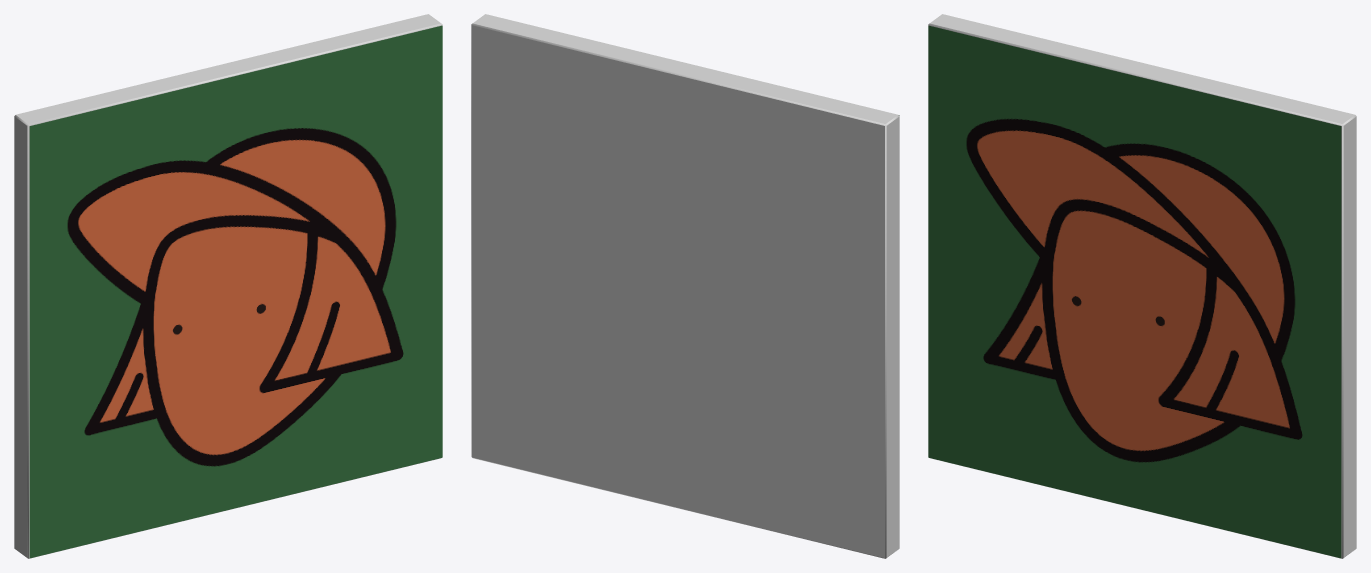
The model's file is room09.glb.
3 renders of one model, left to right at view 1: azimuth 30°, elevation 25°; view 2: azimuth 150°, elevation 25°; view 3: azimuth 330°, elevation 25°, orthographic.
Parts seen in each view (by area): view 1: tex, board; view 2: board; view 3: tex, board.
Boxes of the visible parts, <box> form: tex: <box>29,25,442,558</box>; board: <box>14,14,442,558</box>; board: <box>471,14,899,558</box>; tex: <box>928,25,1341,558</box>; board: <box>928,14,1356,558</box>.
Bounding box in the file's own units: 0.335 × 0.335 × 0.0205.
2 materials, 1 textured.
